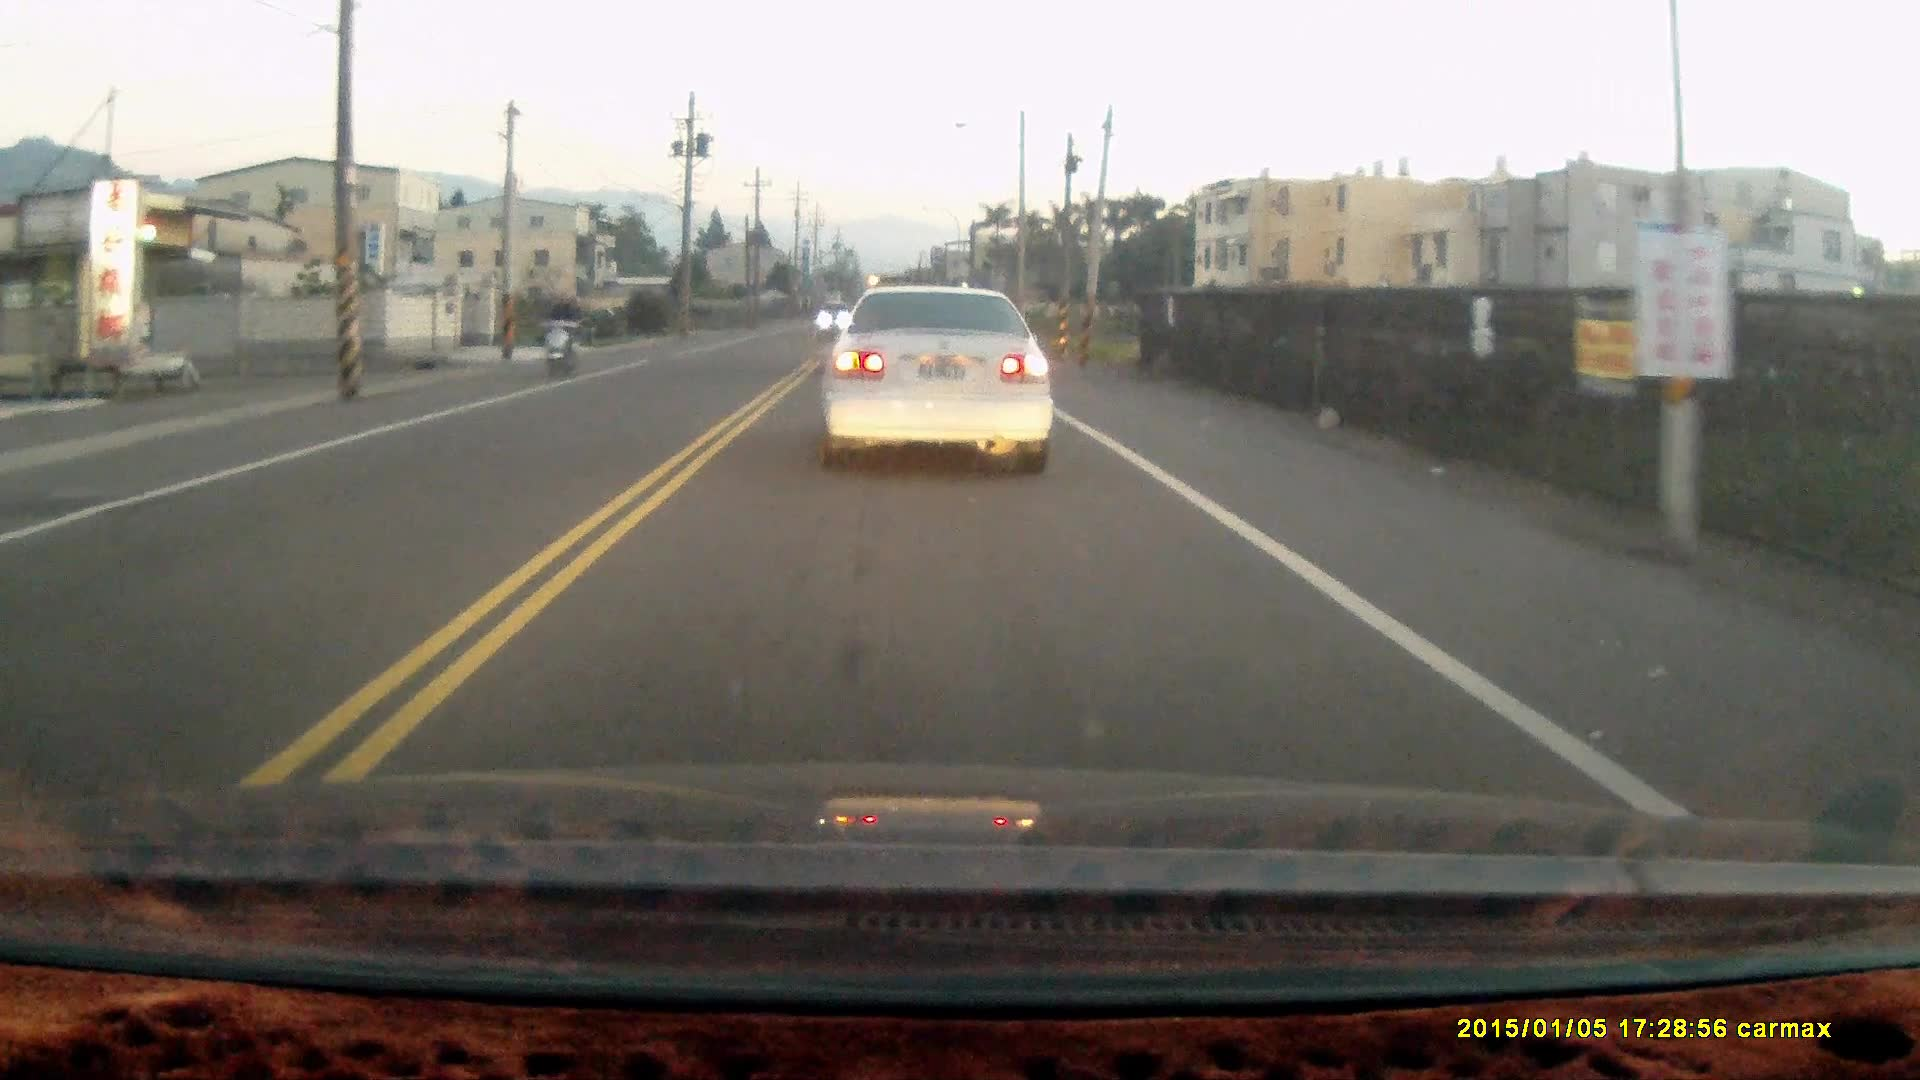rider: (540, 285, 580, 380)
vehicle: (820, 274, 1062, 469)
